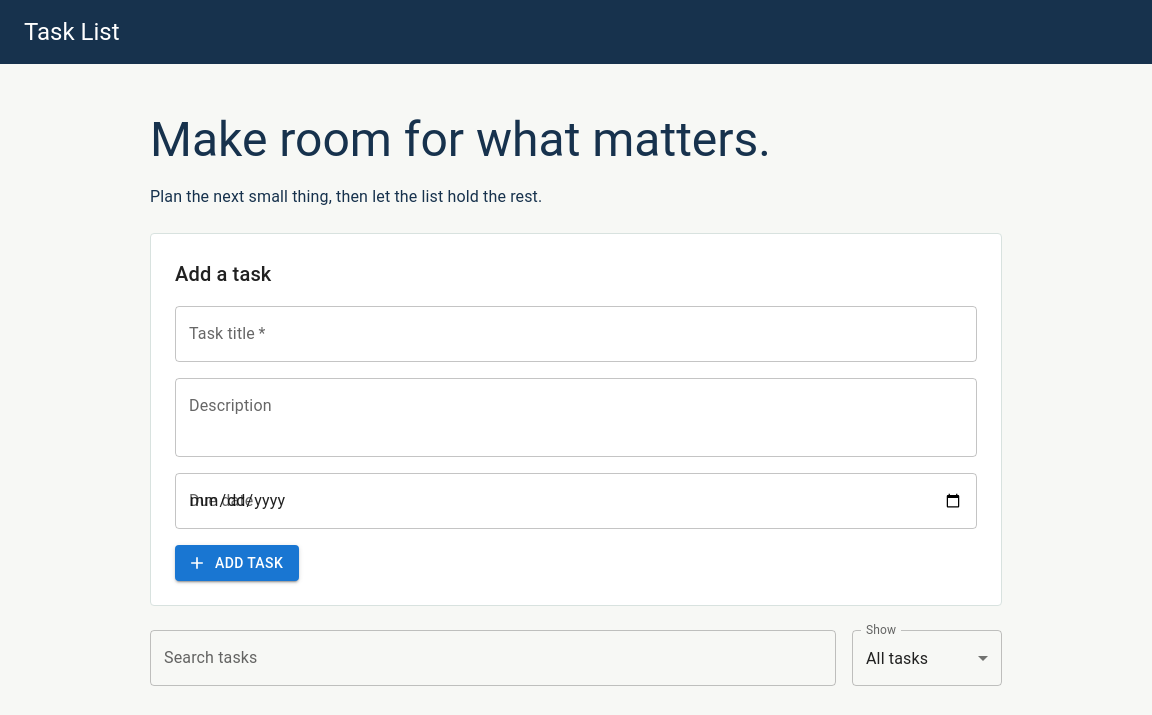
Scenario: Task app › adds a task
Type "New task" into the field labelled "Task title *" at [576, 334], box [175,306,977,362]
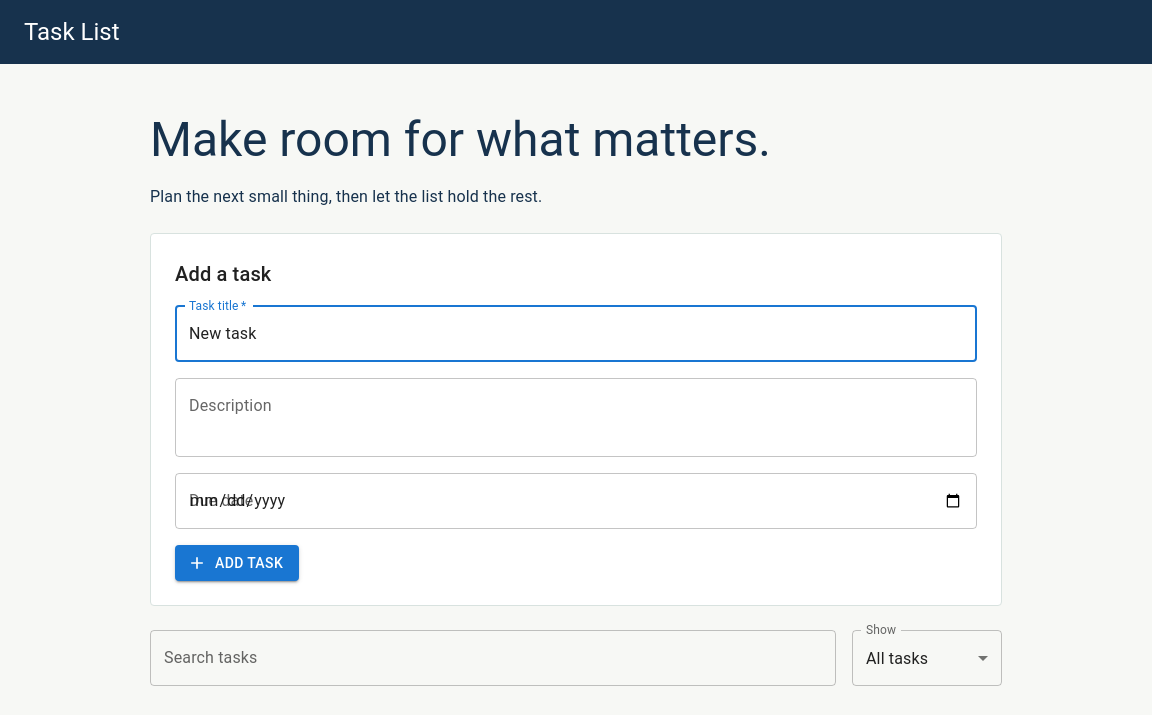
Click the button "Add task" at [237, 563], box [175,545,299,581]
(page scrolled)
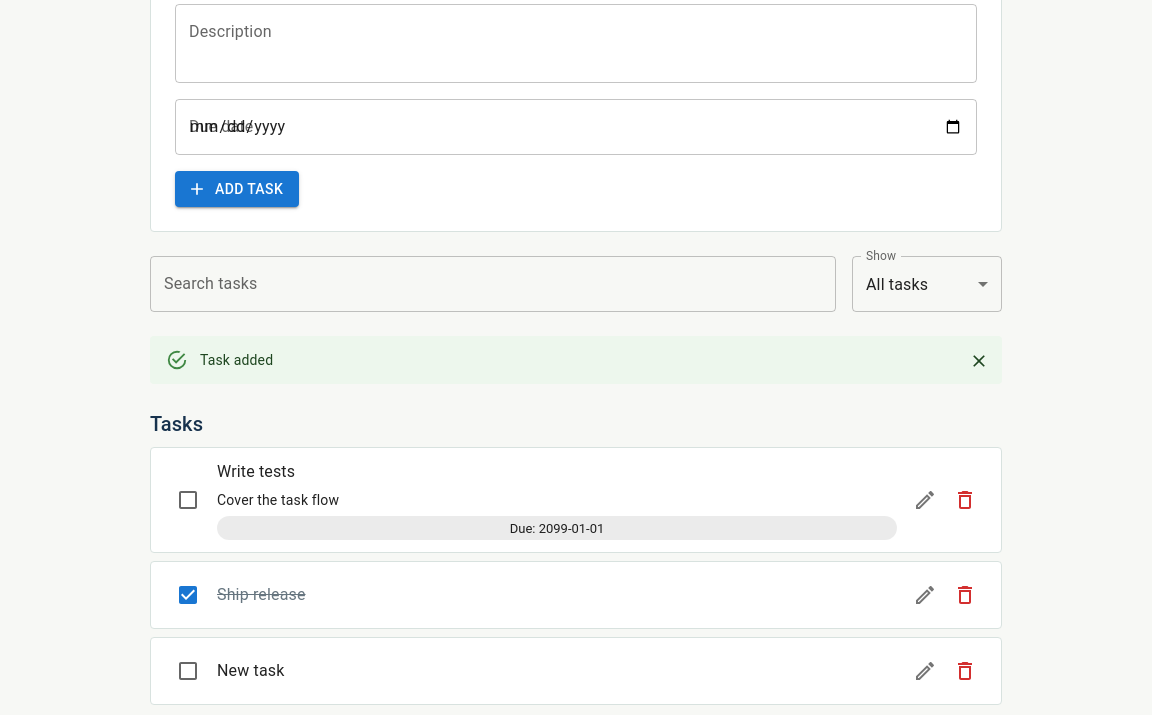
expect the text "New task" is shown: met, box [217,661,284,680]
expect the text "Task added" is shown: met, box [200,352,273,368]
